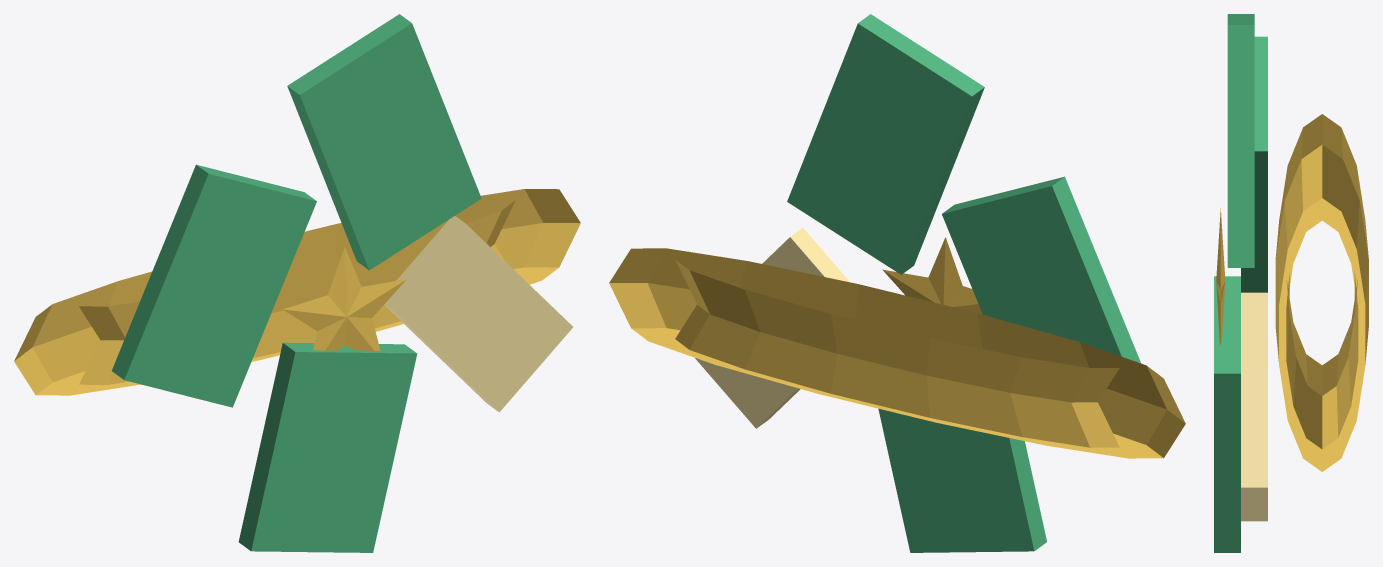
Rendered from minglora_money_rain.gltf.
3 renders of one model, left to right at view 1: azimuth 30°, elevation 25°; view 2: azimuth 150°, elevation 25°; view 3: azimuth 270°, elevation 25°, orthographic. The views are drawn at different scales.
Visible parts, largest first — view 1: minglora_money_rain_0, minglora_money_rain_1, minglora_money_rain_3, minglora_money_rain_5, minglora_money_rain_2, minglora_money_rain_4; view 2: minglora_money_rain_5, minglora_money_rain_1, minglora_money_rain_0, minglora_money_rain_3, minglora_money_rain_2, minglora_money_rain_4; view 3: minglora_money_rain_5, minglora_money_rain_3, minglora_money_rain_1, minglora_money_rain_2, minglora_money_rain_0, minglora_money_rain_4.
Part boxes in pixels (x1,y1,x2,y2): minglora_money_rain_0: [111, 164, 316, 407]; minglora_money_rain_1: [287, 14, 481, 270]; minglora_money_rain_3: [238, 342, 417, 552]; minglora_money_rain_5: [14, 189, 580, 395]; minglora_money_rain_2: [384, 216, 572, 412]; minglora_money_rain_4: [283, 247, 406, 350]; minglora_money_rain_5: [609, 248, 1185, 458]; minglora_money_rain_1: [787, 14, 984, 274]; minglora_money_rain_0: [942, 176, 1141, 363]; minglora_money_rain_3: [878, 408, 1046, 552]; minglora_money_rain_2: [695, 228, 849, 428]; minglora_money_rain_4: [882, 237, 982, 314]; minglora_money_rain_5: [1275, 114, 1368, 471]; minglora_money_rain_3: [1214, 276, 1240, 552]; minglora_money_rain_1: [1227, 14, 1254, 267]; minglora_money_rain_2: [1241, 292, 1267, 521]; minglora_money_rain_0: [1241, 36, 1267, 292]; minglora_money_rain_4: [1216, 208, 1225, 346].
Bounding box in the file's own units: 2.08 × 1.8 × 0.458.
